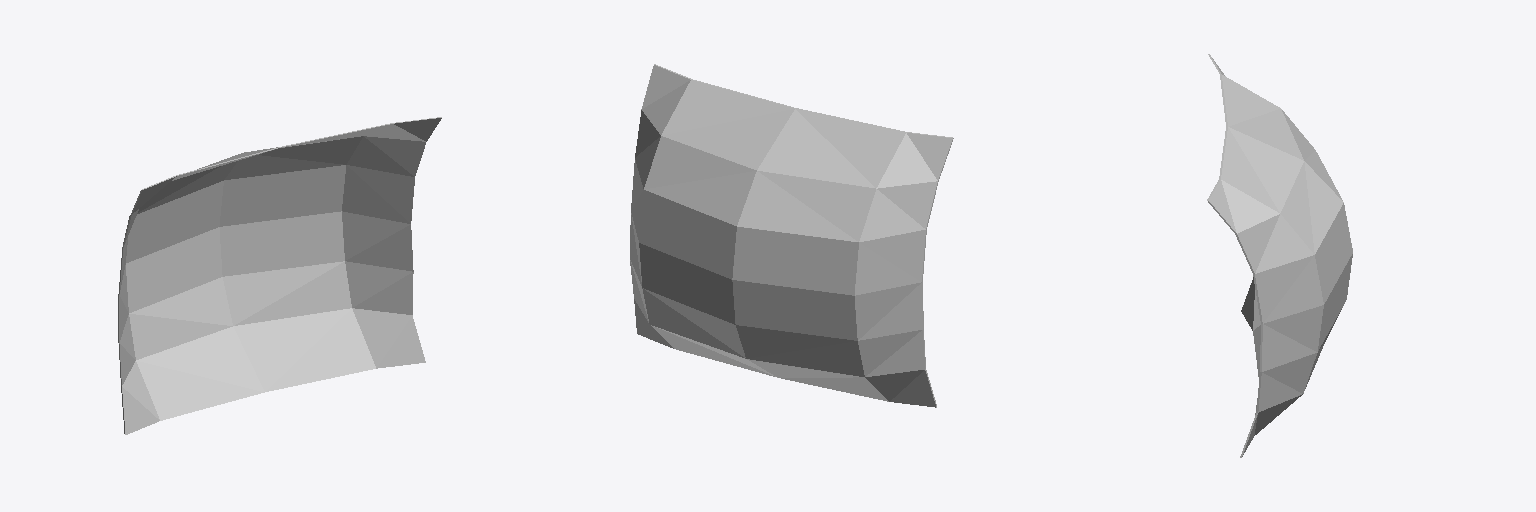
The model's file is Sail3.obj.
The picture shows the model from 3 angles: view 1: azimuth 30°, elevation 25°; view 2: azimuth 150°, elevation 25°; view 3: azimuth 270°, elevation 25°; orthographic projection.
Parts seen in each view (by area): view 1: obj.sail.000_Plane; view 2: obj.sail.000_Plane; view 3: obj.sail.000_Plane.
Boxes of the visible parts, box(x1,y1,x2,y2) form: obj.sail.000_Plane: box(118, 117, 441, 434); obj.sail.000_Plane: box(630, 64, 953, 407); obj.sail.000_Plane: box(1207, 54, 1352, 457).
Bounding box in the file's own units: 2.67 × 2.19 × 1.13.